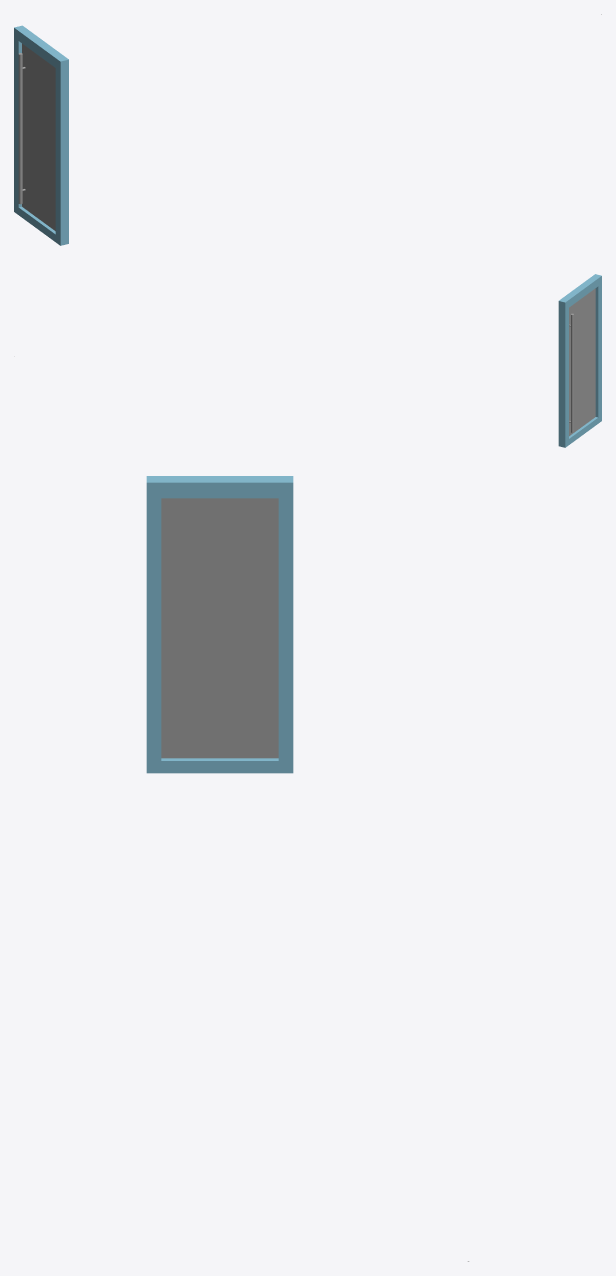
File: baeckerladenTuer_withLights.fbx
The picture shows the model from 3 angles, top to bottom: view 1: azimuth 30°, elevation 25°; view 2: azimuth 150°, elevation 25°; view 3: azimuth 270°, elevation 25°; orthographic projection. The views are drawn at different scales.
Parts seen in each view (by area): view 1: pCube1, door1, pCylinder1; view 2: door1, pCube1, pCylinder1; view 3: pCube1, door1.
Boxes of the visible parts, left/top/right/bottom form: pCube1: left=22, top=43, right=55, bottom=230; door1: left=14, top=25, right=68, bottom=245; pCylinder1: left=18, top=53, right=22, bottom=204; door1: left=558, top=274, right=601, bottom=447; pCube1: left=569, top=288, right=595, bottom=436; pCylinder1: left=571, top=313, right=573, bottom=432; pCube1: left=161, top=498, right=278, bottom=758; door1: left=146, top=476, right=293, bottom=773.
Size of the model in its own units: 7.31 by 1.99 by 2.
